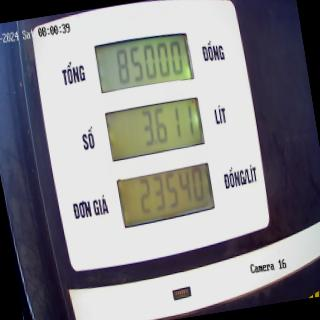screen: (92, 26, 220, 234)
